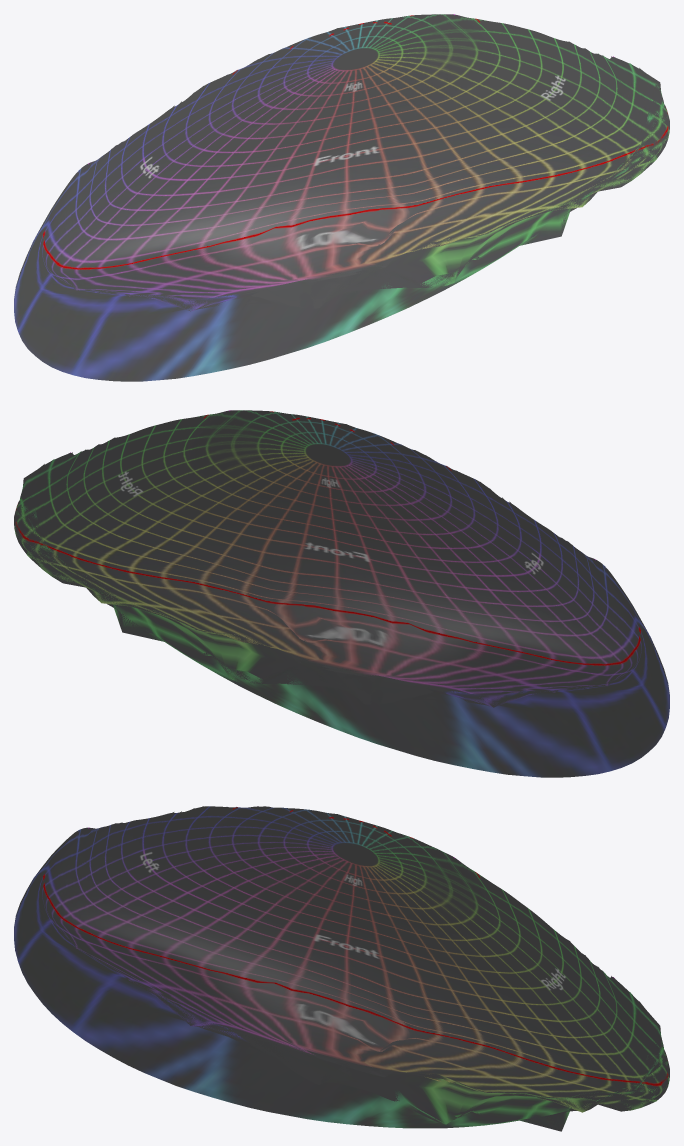
The model's file is warpmesh_v7smooth_manual_blender2.obj.
The picture shows the model from 3 angles, top to bottom: view 1: azimuth 30°, elevation 25°; view 2: azimuth 150°, elevation 25°; view 3: azimuth 330°, elevation 25°; orthographic projection.
Parts seen in each view (by area): view 1: warpmesh_v7; view 2: warpmesh_v7; view 3: warpmesh_v7.
Part boxes in pixels (x1,y1,x2,y2): warpmesh_v7: [14, 14, 669, 381]; warpmesh_v7: [14, 410, 669, 777]; warpmesh_v7: [14, 806, 669, 1131].
Size of the model in its own units: 0.9229 by 0.424 by 4.9e-05.
